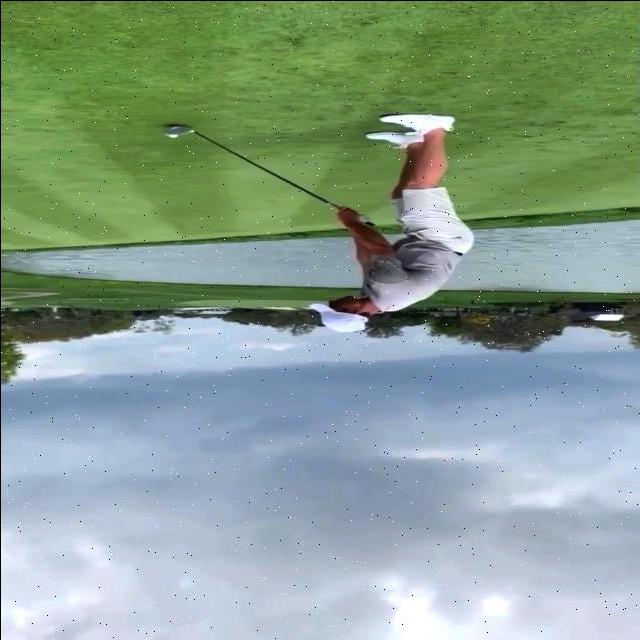golf ball: (167, 132, 174, 137)
golf club-handle: (162, 124, 374, 226)
golf club-head: (163, 123, 191, 134)
